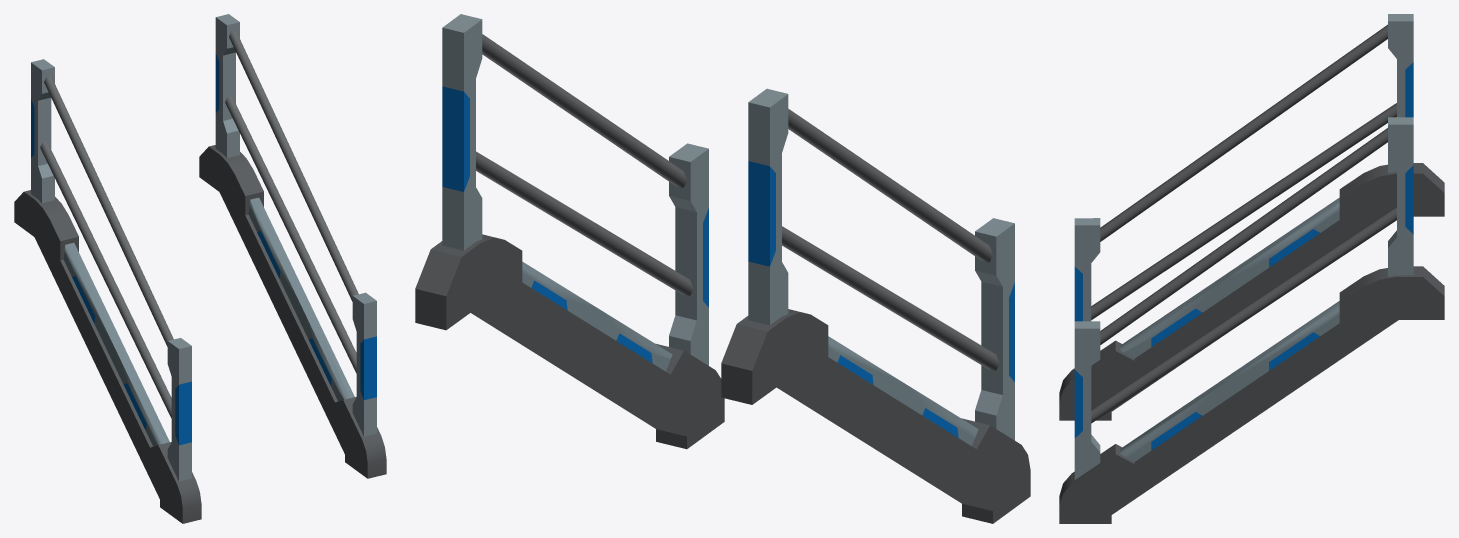
Rendered from Stair_type_B_fence_002.fbx.
3 views of the same model, side by side, from view 1: azimuth 30°, elevation 25°; view 2: azimuth 150°, elevation 25°; view 3: azimuth 270°, elevation 25° (orthographic). The views are drawn at different scales.
Visible parts, largest first — view 1: Stair_type_B_fence_002; view 2: Stair_type_B_fence_002; view 3: Stair_type_B_fence_002.
Part boxes in pixels (x1,y1,x2,y2): Stair_type_B_fence_002: (14,14,386,523); Stair_type_B_fence_002: (415,14,1030,523); Stair_type_B_fence_002: (1059,14,1444,523).
Size of the model in its own units: 179 by 257 by 292.
